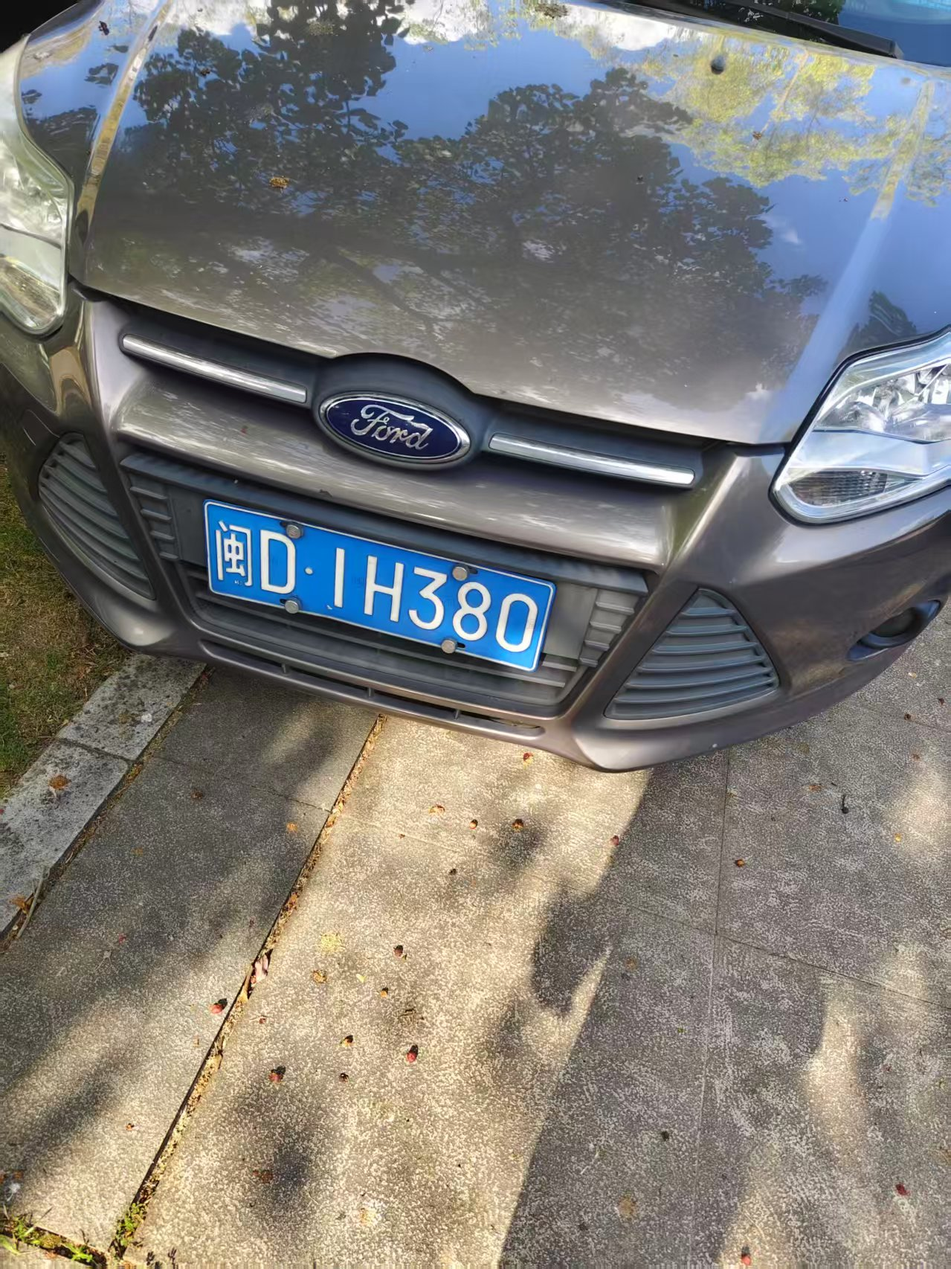plate: (204, 504, 550, 672)
